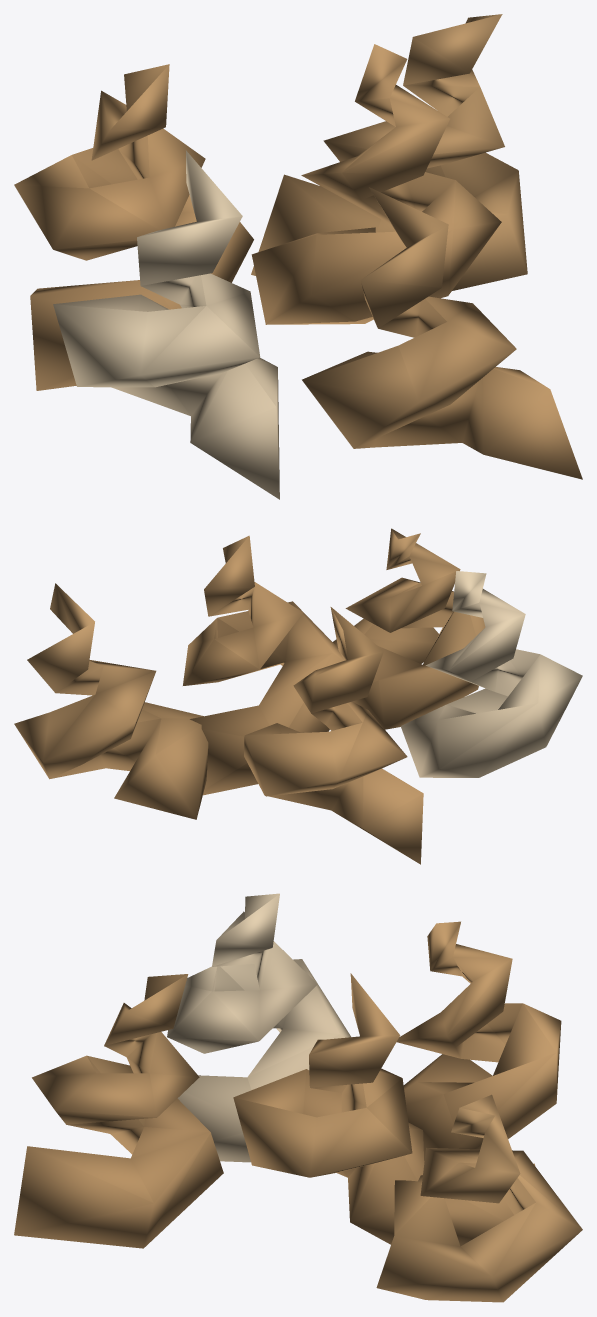
The model's file is grotto_gc_shells_lod1.glb.
3 renders of one model, top to bottom at view 1: azimuth 30°, elevation 25°; view 2: azimuth 150°, elevation 25°; view 3: azimuth 270°, elevation 25°, orthographic. The views are drawn at different scales.
Visible parts, largest first — view 1: grotto_gc_shells.001; view 2: grotto_gc_shells.001; view 3: grotto_gc_shells.001.
Part boxes in pixels (x1,y1,x2,y2): grotto_gc_shells.001: (14,14,582,499); grotto_gc_shells.001: (14,528,582,864); grotto_gc_shells.001: (14,893,582,1302).
Bounding box in the file's own units: 1.79 × 0.9525 × 1.77.
